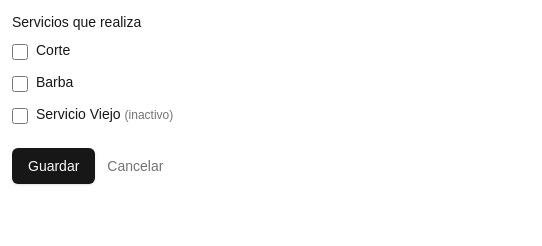
BarberServicesForm - the rendered baseline travels with the submission › should_submit_the_baseline_even_when_nothing_is_checked
Click the button "Guardar": (54, 166) [12,148,95,184]
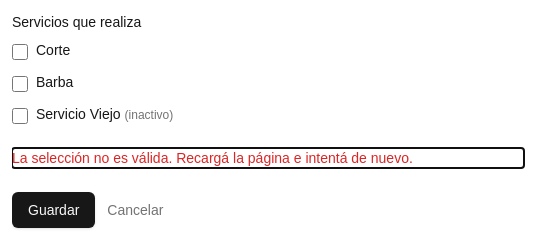
Check: the message "La selección no es válida. Recargá la página e intentá de nuevo." is shown, box [12,150,413,166]
